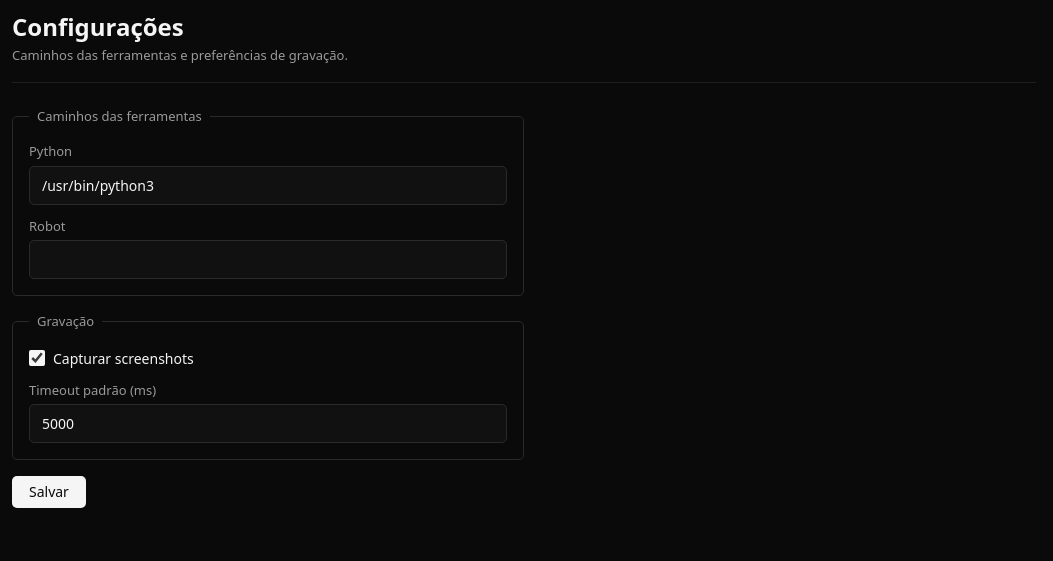
Test: SettingsScreen (PRD §3, §4) › loads current settings and saves a patch via the bridge
Replace the text in the field labelled "Python" with "/opt/py" at (268, 185), box left=29, top=166, right=507, bottom=204
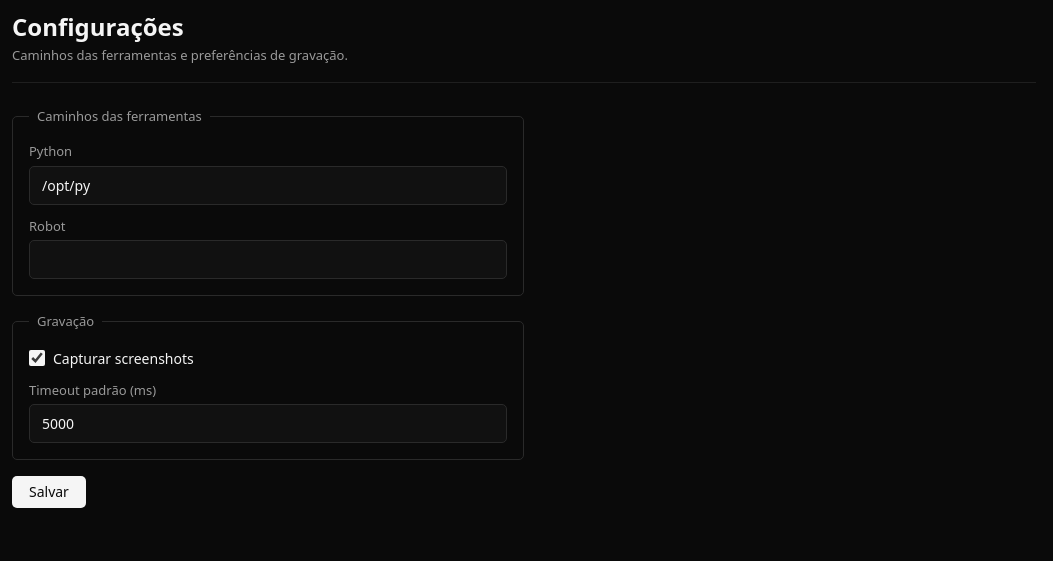
Click the checkbox labelled "Capturar screenshots" at (37, 358), box left=29, top=350, right=45, bottom=366
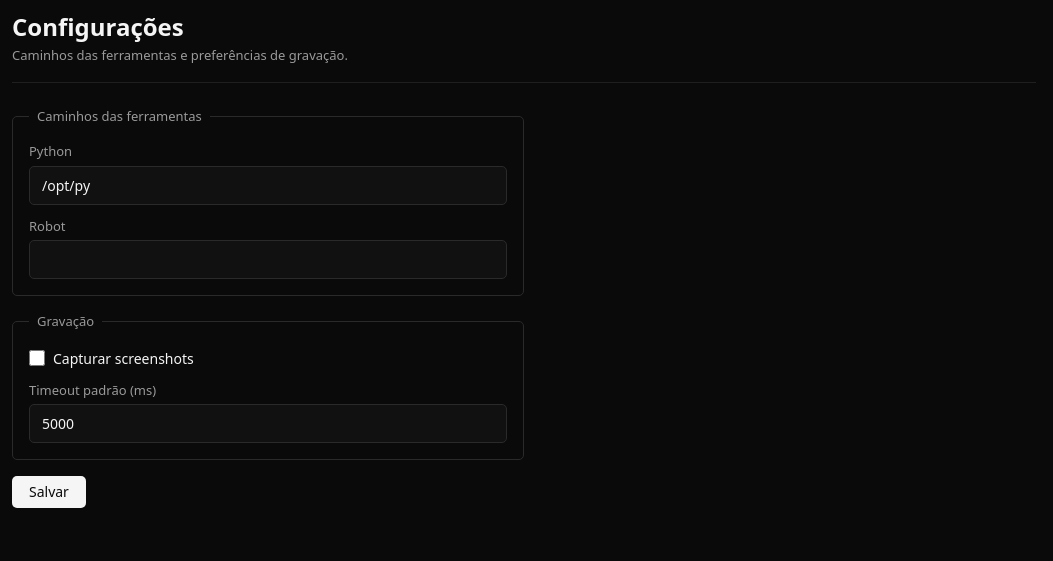
Click the button "Salvar" at (49, 492), box left=12, top=476, right=86, bottom=508
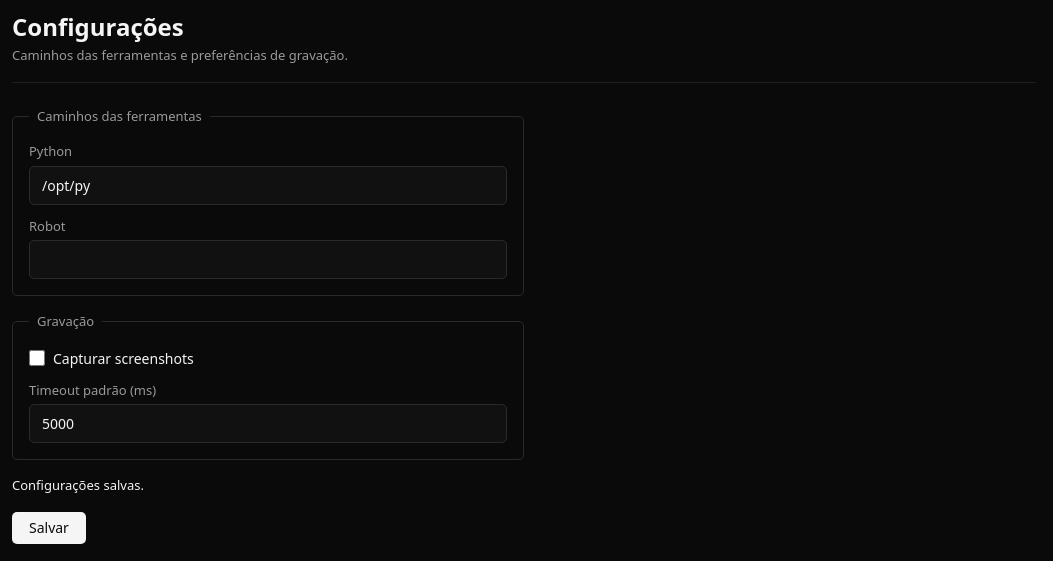
expect the message shows "salvas": met, box left=12, top=476, right=144, bottom=494
